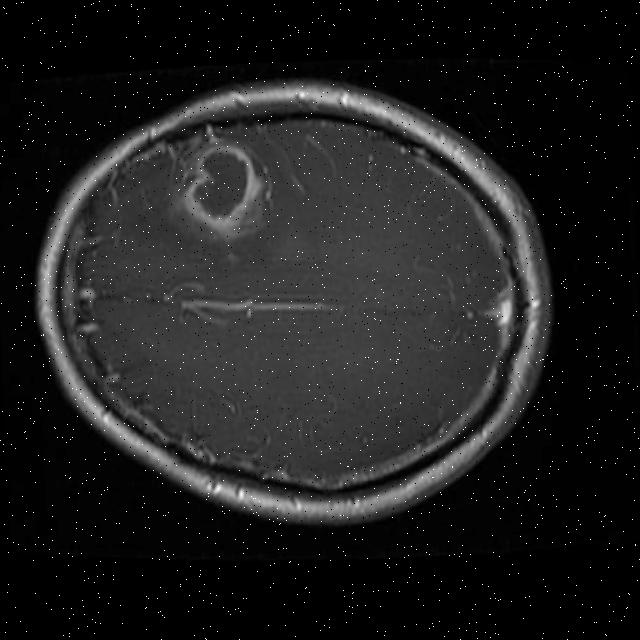Glioma: (179, 143, 258, 236)
